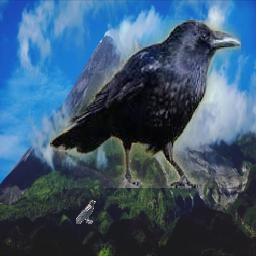Crow: (51, 20, 242, 188), (76, 200, 96, 224)
